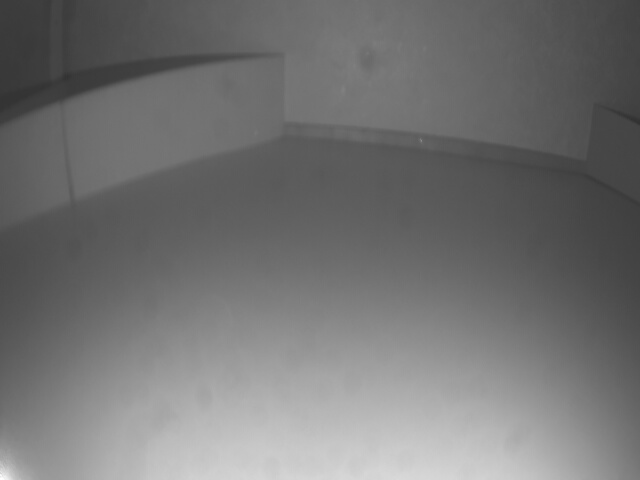Point: (0, 55, 285, 244), (588, 105, 640, 216)
